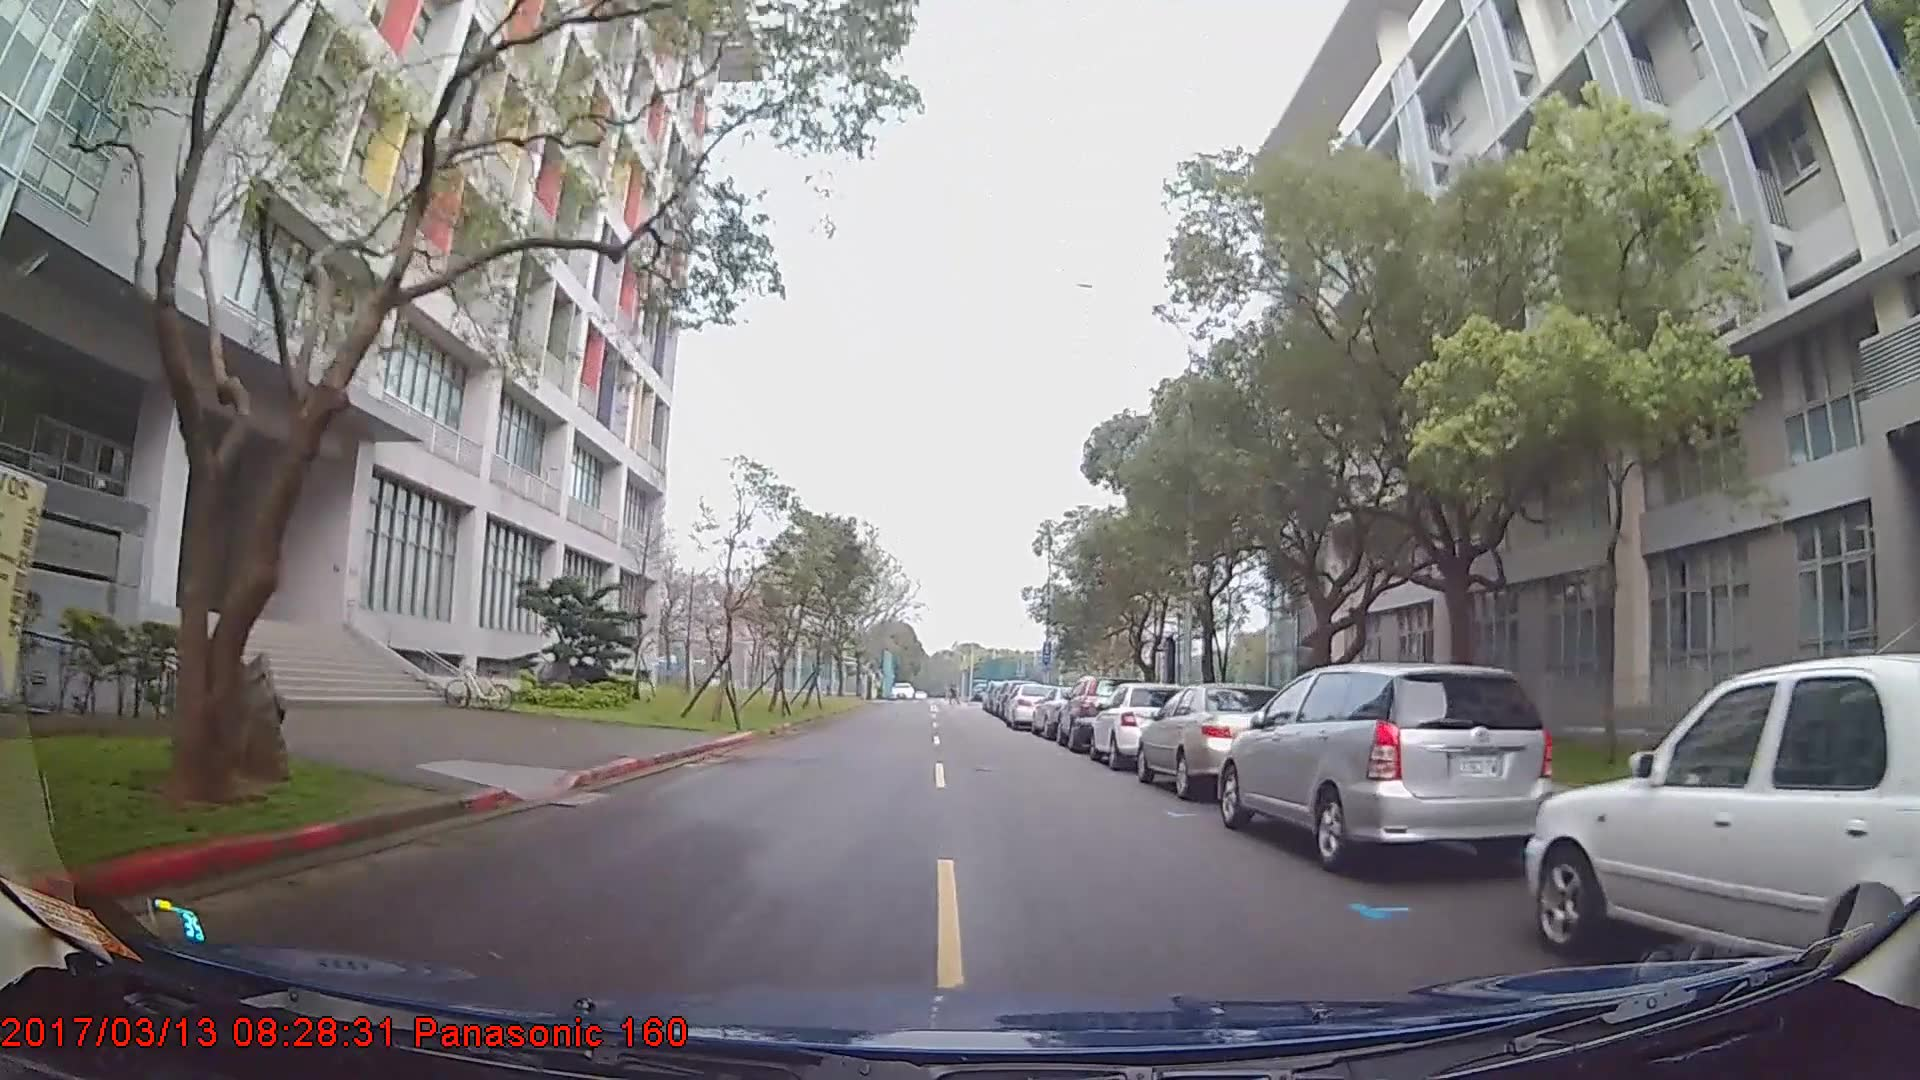vehicle: (1524, 649, 1920, 963), (1215, 661, 1556, 869), (1134, 680, 1298, 796), (1089, 682, 1187, 770), (1055, 676, 1138, 752), (1004, 679, 1062, 731)
